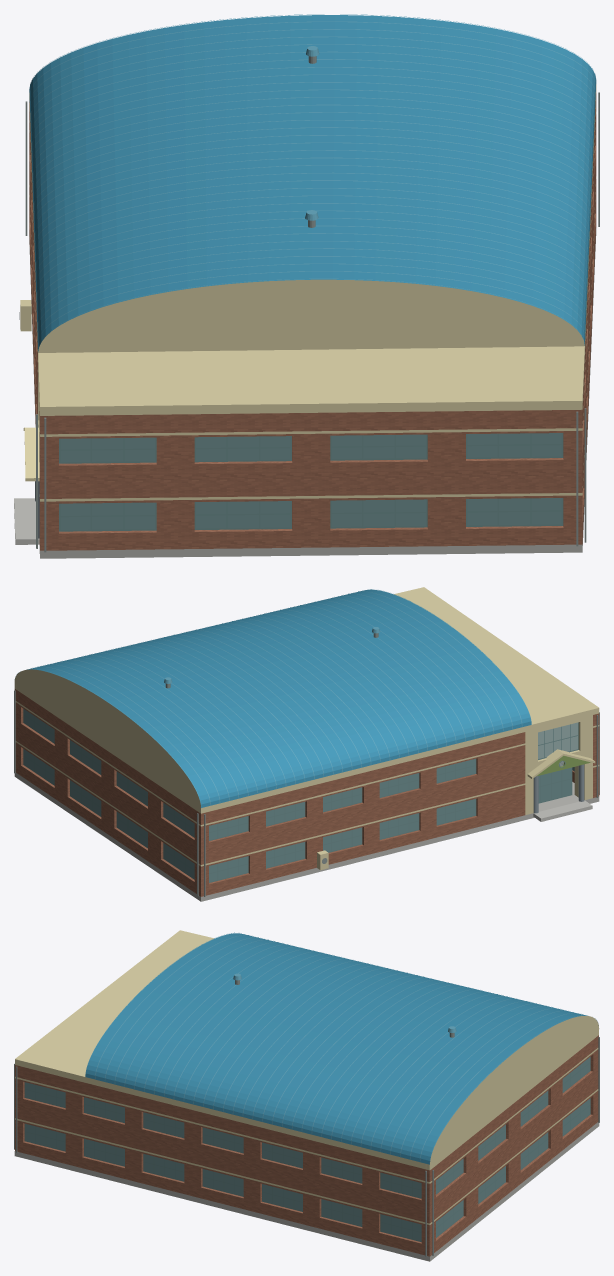
3 views of the same model, one above another, from view 1: azimuth 30°, elevation 25°; view 2: azimuth 150°, elevation 25°; view 3: azimuth 270°, elevation 25° (orthographic). The views are drawn at different scales.
Parts seen in each view (by area): view 1: gym__roof, gym__cream, gym__brick, gym__roof-rib, gym__glass, gym__floor-structure, gym__frame, gym__metal, gym__threshold-entry; view 2: gym__roof, gym__brick, gym__cream, gym__glass, gym__roof-rib, gym__frame, gym__floor-structure, gym__glass-block, gym__metal, gym__threshold-entry, gym__pier; view 3: gym__roof, gym__brick, gym__cream, gym__glass, gym__roof-rib, gym__frame, gym__floor-structure, gym__metal.
Part boxes in pixels (bbox=[...]): gym__roof: bbox=[29, 15, 596, 351]; gym__cream: bbox=[20, 84, 596, 501]; gym__brick: bbox=[29, 93, 596, 550]; gym__roof-rib: bbox=[30, 14, 595, 343]; gym__glass: bbox=[60, 433, 561, 529]; gym__floor-structure: bbox=[29, 228, 596, 558]; gym__frame: bbox=[59, 433, 563, 531]; gym__metal: bbox=[19, 56, 599, 552]; gym__threshold-entry: bbox=[14, 498, 39, 544]; gym__roof: bbox=[27, 589, 531, 807]; gym__brick: bbox=[14, 689, 599, 896]; gym__cream: bbox=[14, 587, 599, 870]; gym__glass: bbox=[24, 709, 574, 881]; gym__roof-rib: bbox=[14, 589, 531, 807]; gym__frame: bbox=[23, 709, 578, 882]; gym__floor-structure: bbox=[14, 773, 599, 901]; gym__glass-block: bbox=[538, 722, 577, 758]; gym__metal: bbox=[14, 633, 599, 896]; gym__threshold-entry: bbox=[533, 800, 592, 821]; gym__pier: bbox=[533, 764, 584, 813]; gym__roof: bbox=[85, 933, 587, 1164]; gym__brick: bbox=[15, 1035, 598, 1256]; gym__cream: bbox=[15, 930, 598, 1224]; gym__glass: bbox=[25, 1057, 589, 1240]; gym__roof-rib: bbox=[85, 932, 598, 1163]; gym__frame: bbox=[24, 1057, 590, 1241]; gym__floor-structure: bbox=[14, 1122, 599, 1261]; gym__metal: bbox=[14, 980, 599, 1256].
Size of the model in its own units: 39.79 by 11.83 by 41.6.
Materials: 12 (1 with a texture image).
